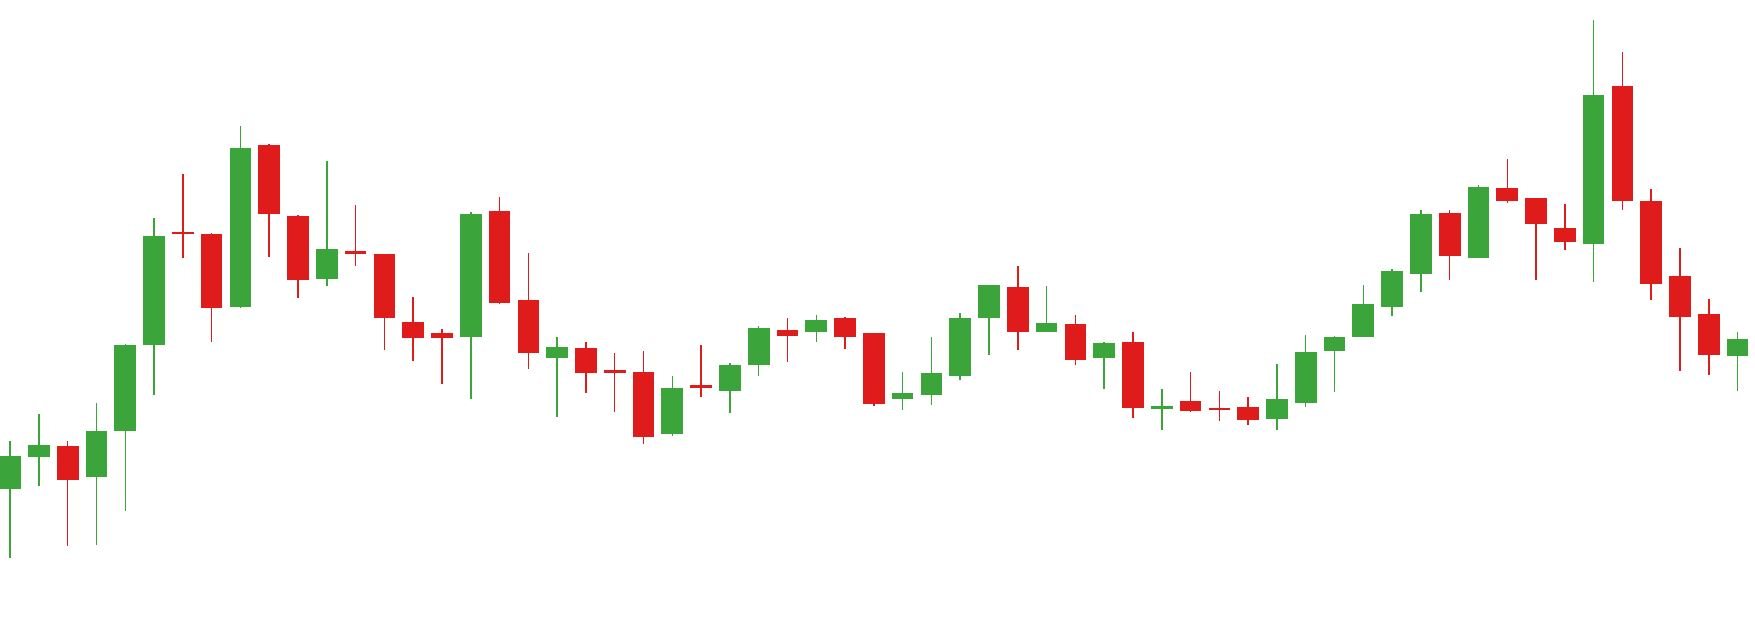sell: (1496, 19, 1635, 252)
